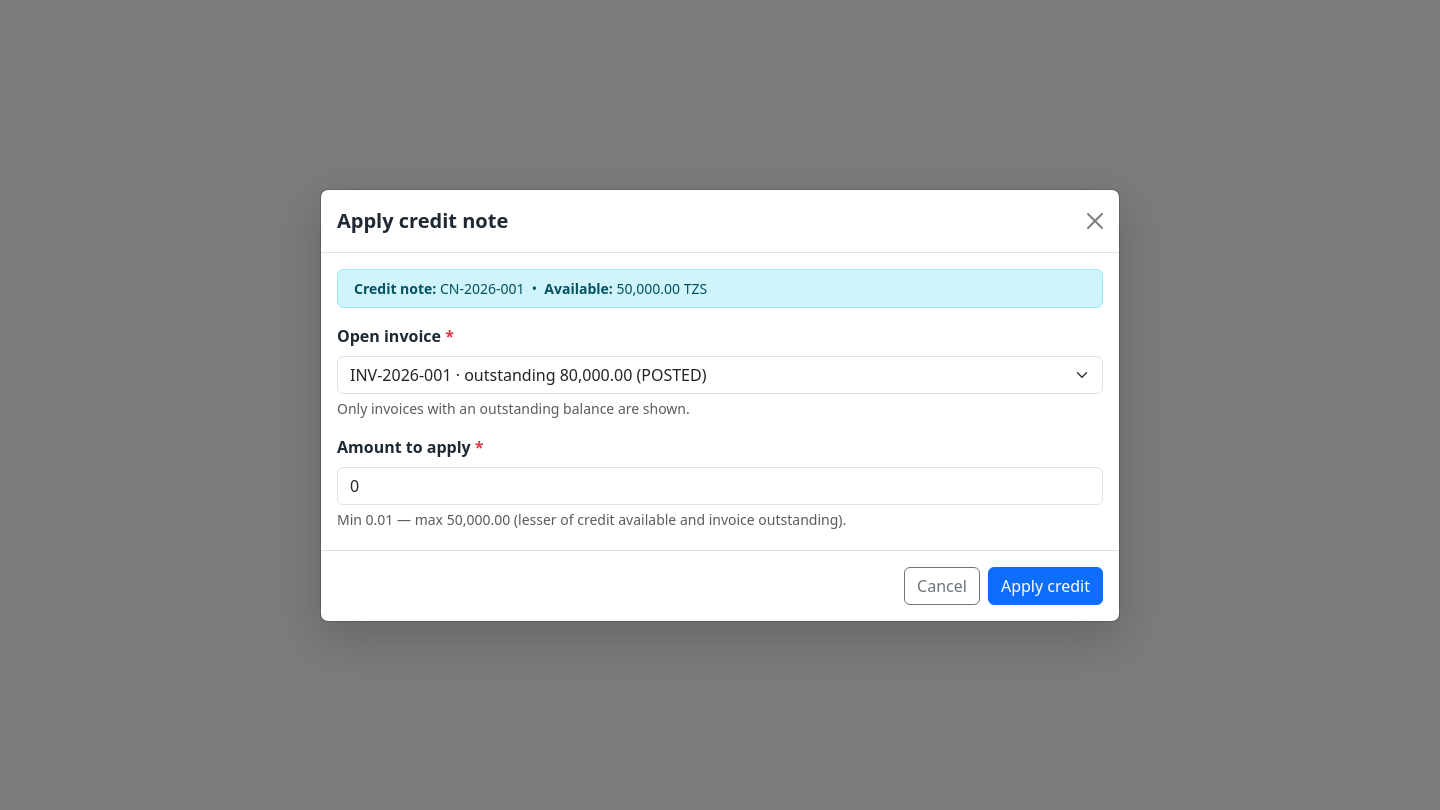
Test: CreditNoteApplyModalComponent › form validation › shows error when amount is zero
Step 1. Click the submit button → (1045,586), box [988,566,1103,604]
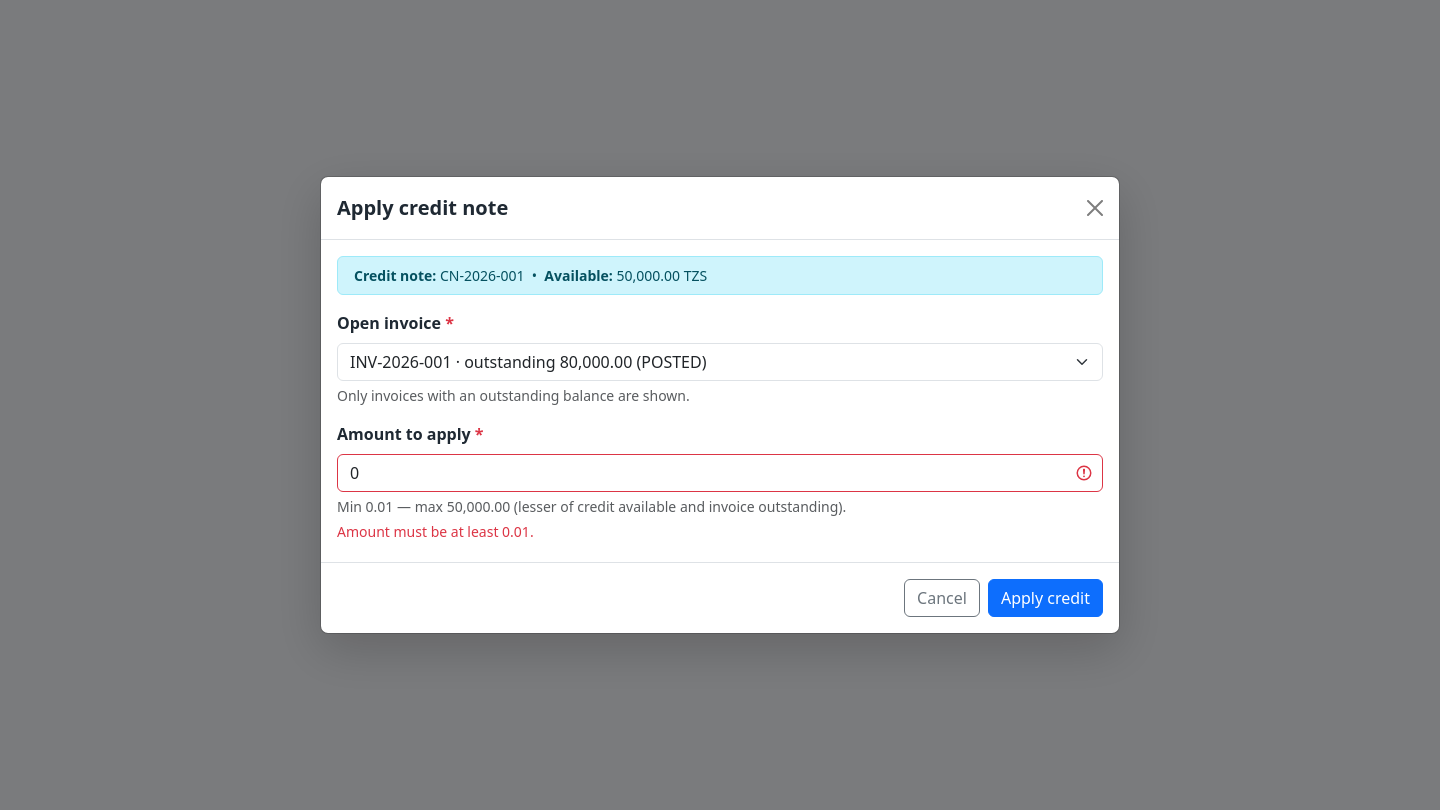
Check: the text "at least 0.01" is shown, box [337,522,534,541]
